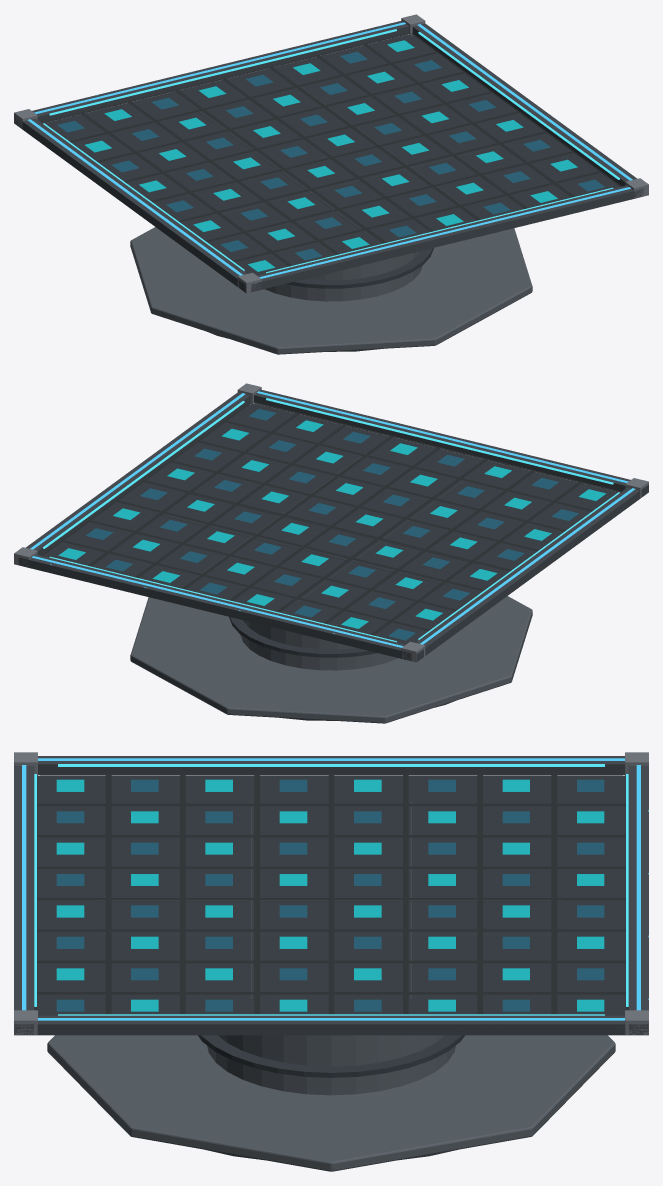
Rendered from board_cyber.glb.
The picture shows the model from 3 angles, top to bottom: view 1: azimuth 30°, elevation 25°; view 2: azimuth 150°, elevation 25°; view 3: azimuth 270°, elevation 25°; orthographic projection. The views are drawn at different scales.
Visible parts, largest first — view 1: board_base_plate, ped_base_plate, proj_separator, frame_rail_neg_y, frame_rail_pos_y, frame_rail_neg_x, frame_rail_pos_x, ped_shaft, ped_ring_low, chan_top_y_pos, chan_top_y_neg, emit_strip_pos_y (+5 smaller); view 2: board_base_plate, ped_base_plate, proj_separator, frame_rail_pos_y, frame_rail_neg_y, frame_rail_neg_x, frame_rail_pos_x, ped_shaft, ped_ring_low, chan_top_y_neg, chan_top_y_pos, emit_strip_neg_y (+5 smaller); view 3: board_base_plate, ped_base_plate, proj_separator, frame_rail_pos_x, ped_shaft, frame_rail_neg_x, frame_rail_neg_y, frame_rail_pos_y, ped_ring_low, chan_top_x_pos, chan_top_x_neg, emit_strip_neg_x (+6 smaller).
Boxes of the visible parts, x1,y1,x2,y2 form: board_base_plate: (45, 34, 619, 275); ped_base_plate: (130, 227, 532, 354); proj_separator: (41, 33, 621, 266); frame_rail_neg_y: (239, 185, 644, 292); frame_rail_pos_y: (15, 20, 408, 128); frame_rail_neg_x: (22, 118, 247, 286); frame_rail_pos_x: (412, 23, 636, 186); ped_shaft: (264, 251, 422, 301); ped_ring_low: (285, 248, 433, 288); chan_top_y_pos: (34, 22, 405, 113); chan_top_y_neg: (259, 187, 630, 278); emit_strip_pos_y: (49, 29, 396, 115); board_base_plate: (43, 403, 617, 644); ped_base_plate: (130, 596, 532, 723); proj_separator: (41, 402, 621, 635); frame_rail_pos_y: (18, 554, 423, 661); frame_rail_neg_y: (254, 389, 648, 497); frame_rail_neg_x: (415, 487, 640, 655); frame_rail_pos_x: (26, 392, 250, 555); ped_shaft: (240, 620, 398, 670); ped_ring_low: (229, 617, 377, 657); chan_top_y_neg: (257, 391, 628, 482); chan_top_y_pos: (32, 556, 403, 647); emit_strip_neg_y: (266, 398, 613, 484); board_base_plate: (37, 775, 625, 1015); ped_base_plate: (47, 1035, 615, 1171); proj_separator: (34, 773, 628, 1014); frame_rail_pos_x: (37, 1015, 625, 1035); ped_shaft: (207, 1035, 455, 1095); frame_rail_neg_x: (38, 756, 624, 775); frame_rail_neg_y: (14, 766, 34, 1035); frame_rail_pos_y: (628, 766, 648, 1035); ped_ring_low: (198, 1035, 464, 1077); chan_top_x_pos: (38, 1018, 624, 1020); chan_top_x_neg: (38, 758, 624, 760); emit_strip_neg_x: (58, 764, 604, 766).
Size of what is drawn, in the model's own units: 4.38 by 1.29 by 4.38.
